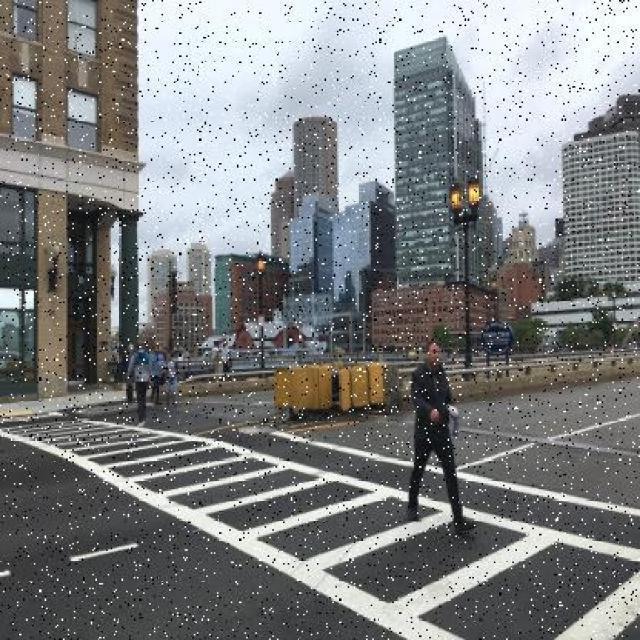Pedestrian crosswalk: (0, 410, 640, 639)
